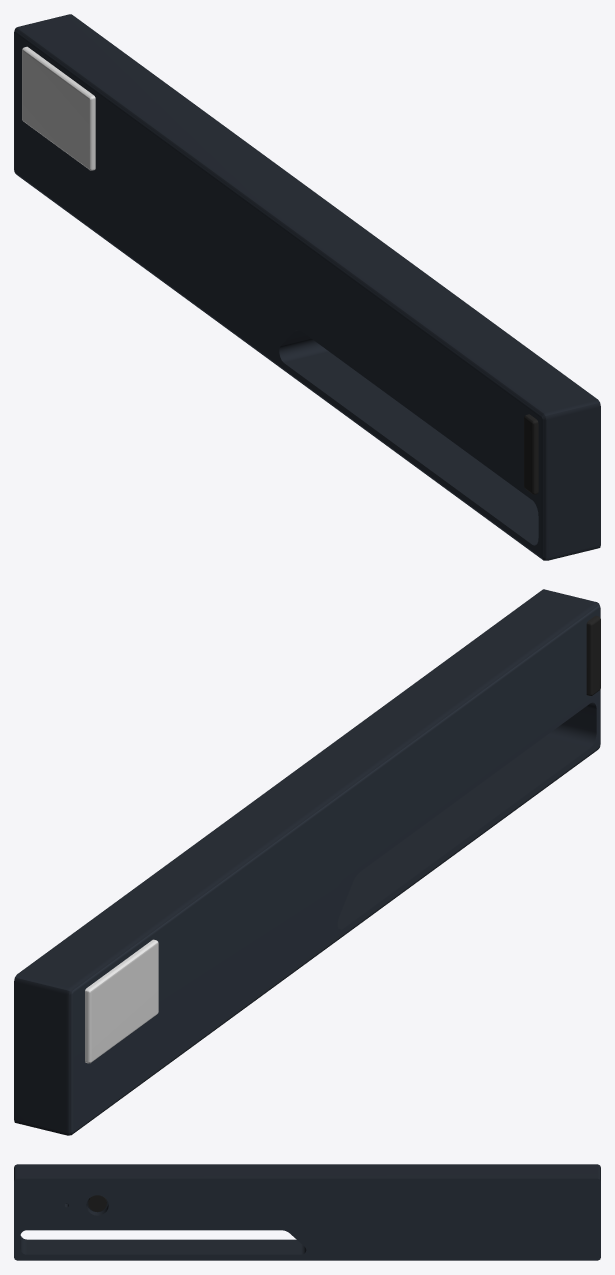
The model's file is realsense.dae.
The picture shows the model from 3 angles, top to bottom: view 1: azimuth 30°, elevation 25°; view 2: azimuth 150°, elevation 25°; view 3: azimuth 270°, elevation 25°; orthographic projection. The views are drawn at different scales.
Parts seen in each view (by area): view 1: pCube13; view 2: pCube13; view 3: pCube13.
Part boxes in pixels (x1,y1,x2,y2): pCube13: (14, 14, 600, 560); pCube13: (14, 589, 600, 1135); pCube13: (14, 1164, 600, 1260).
Size of the model in its own units: 0.8768 by 13 by 2.
